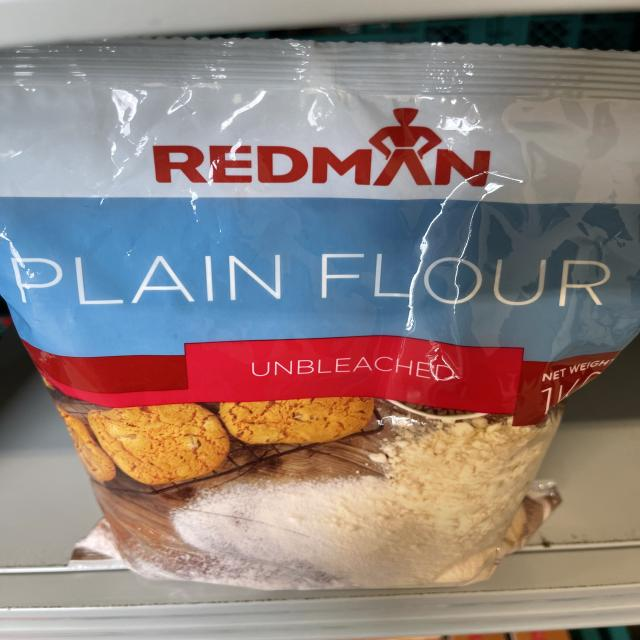object_name: (3, 56, 639, 582)
